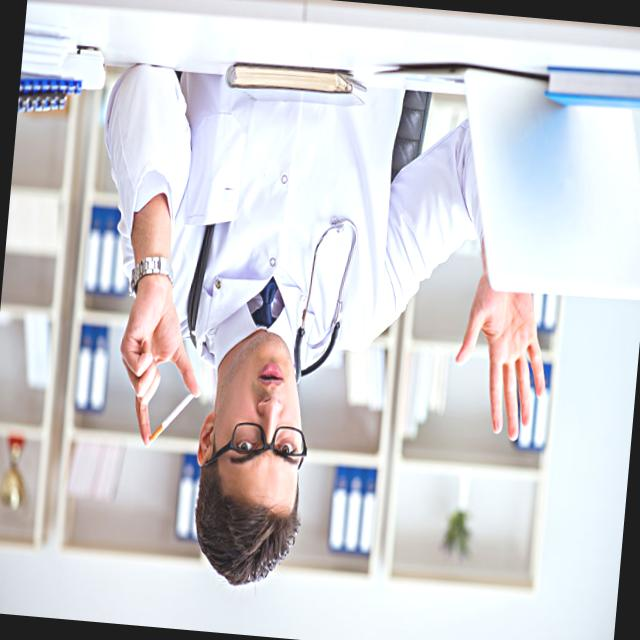cigarette: (146, 388, 193, 450)
